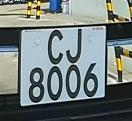0: (45, 65, 66, 103), (63, 65, 83, 101)
6: (81, 63, 100, 99)
8: (27, 65, 46, 104)
C: (45, 29, 67, 67)
J: (64, 27, 85, 65)
